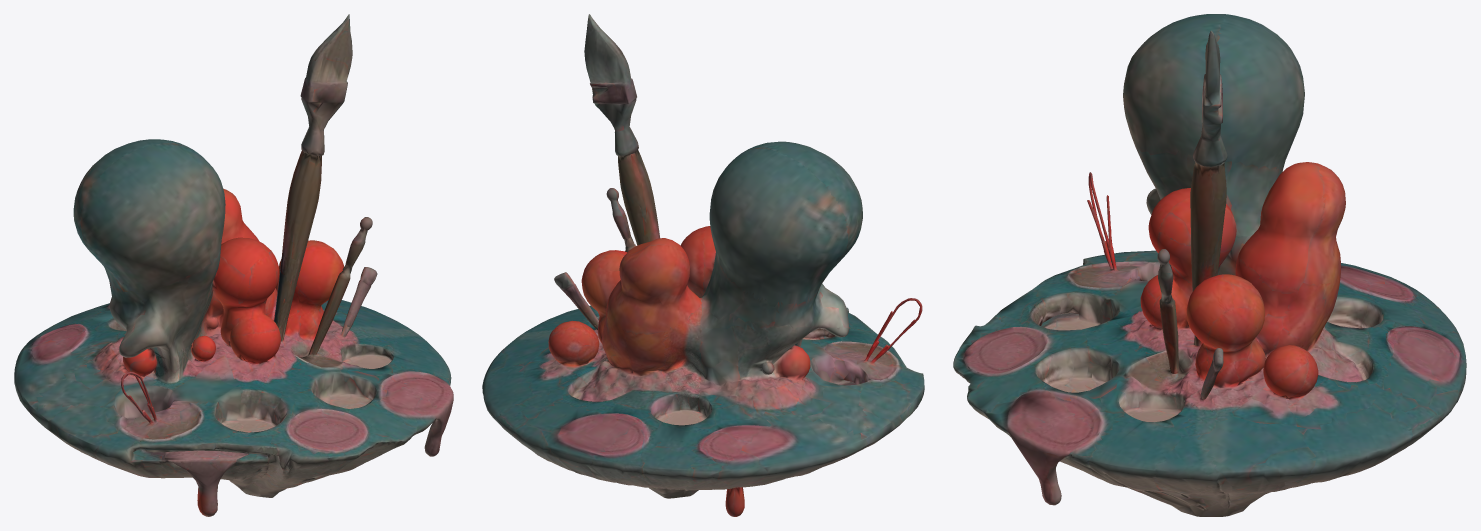
Rendered from chroma-palette-island.glb.
The picture shows the model from 3 angles, left to right: view 1: azimuth 30°, elevation 25°; view 2: azimuth 150°, elevation 25°; view 3: azimuth 270°, elevation 25°; orthographic projection. The views are drawn at different scales.
Size of the model in its own units: 1.65 by 1.9 by 1.67.
Materials: 1 (1 with a texture image).
